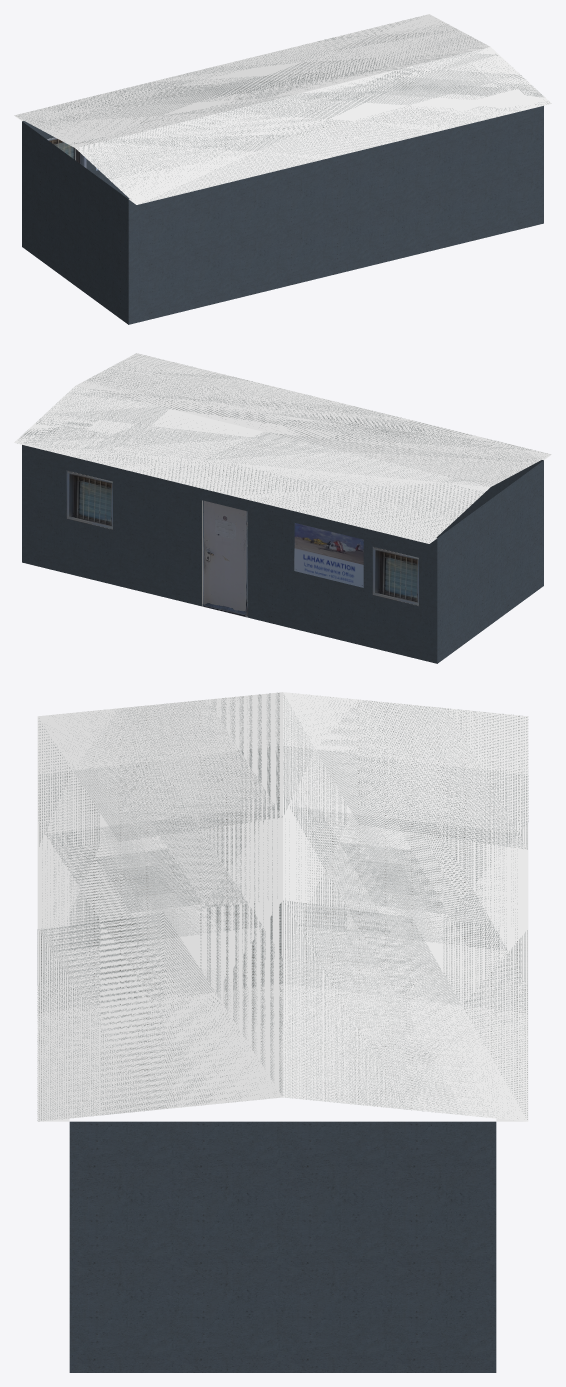
The model's file is Lahak2.dae.
The picture shows the model from 3 angles, top to bottom: view 1: azimuth 30°, elevation 25°; view 2: azimuth 150°, elevation 25°; view 3: azimuth 270°, elevation 25°; orthographic projection. The views are drawn at different scales.
Visible parts, largest first — view 1: SketchUp (×3); view 2: SketchUp (×6); view 3: SketchUp (×2).
Boxes of the visible parts, x1,y1,x2,y2 form: SketchUp (×3): (14, 14, 551, 324); SketchUp (×6): (14, 353, 551, 663); SketchUp (×2): (37, 692, 528, 1372).
Size of the model in its own units: 354 by 181 by 112.
4 materials, 3 textured.
